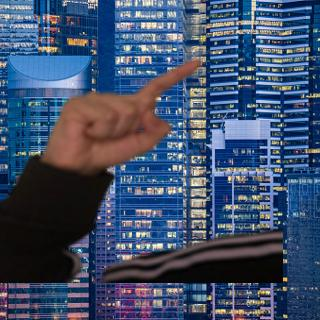WHY: (43, 54, 213, 174)
